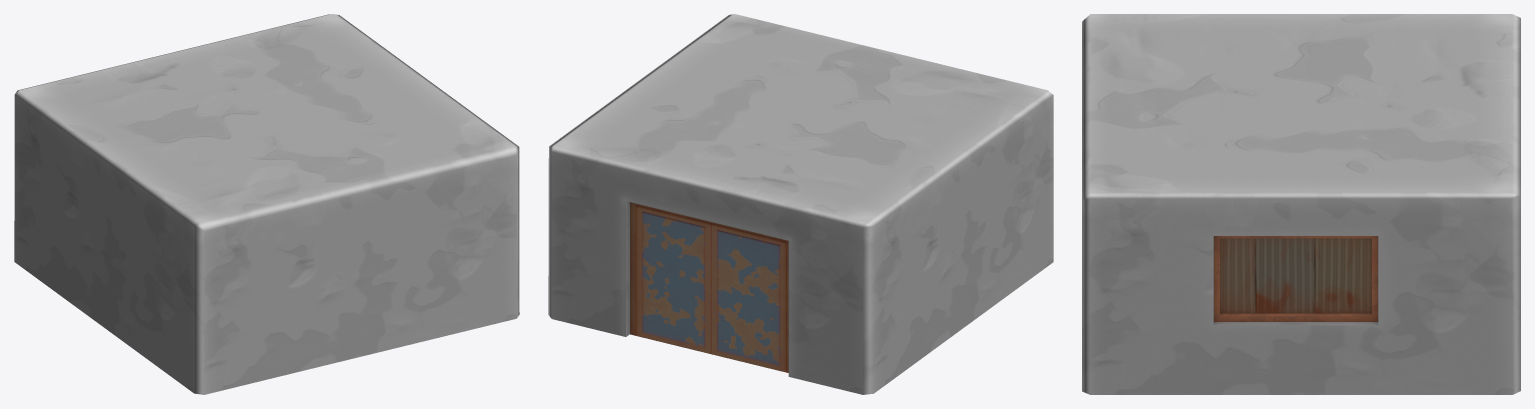
Rendered from stone_build_4.fbx.
The picture shows the model from 3 angles, left to right: view 1: azimuth 30°, elevation 25°; view 2: azimuth 150°, elevation 25°; view 3: azimuth 270°, elevation 25°; orthographic projection. The views are drawn at different scales.
Visible parts, largest first — view 1: stone_build_4; view 2: stone_build_4; view 3: stone_build_4.
Boxes of the visible parts, x1=… form: stone_build_4: x1=14, y1=14, x2=519, y2=394; stone_build_4: x1=548, y1=14, x2=1053, y2=394; stone_build_4: x1=1082, y1=14, x2=1520, y2=394.
Size of the model in its own units: 400 by 200 by 400.
